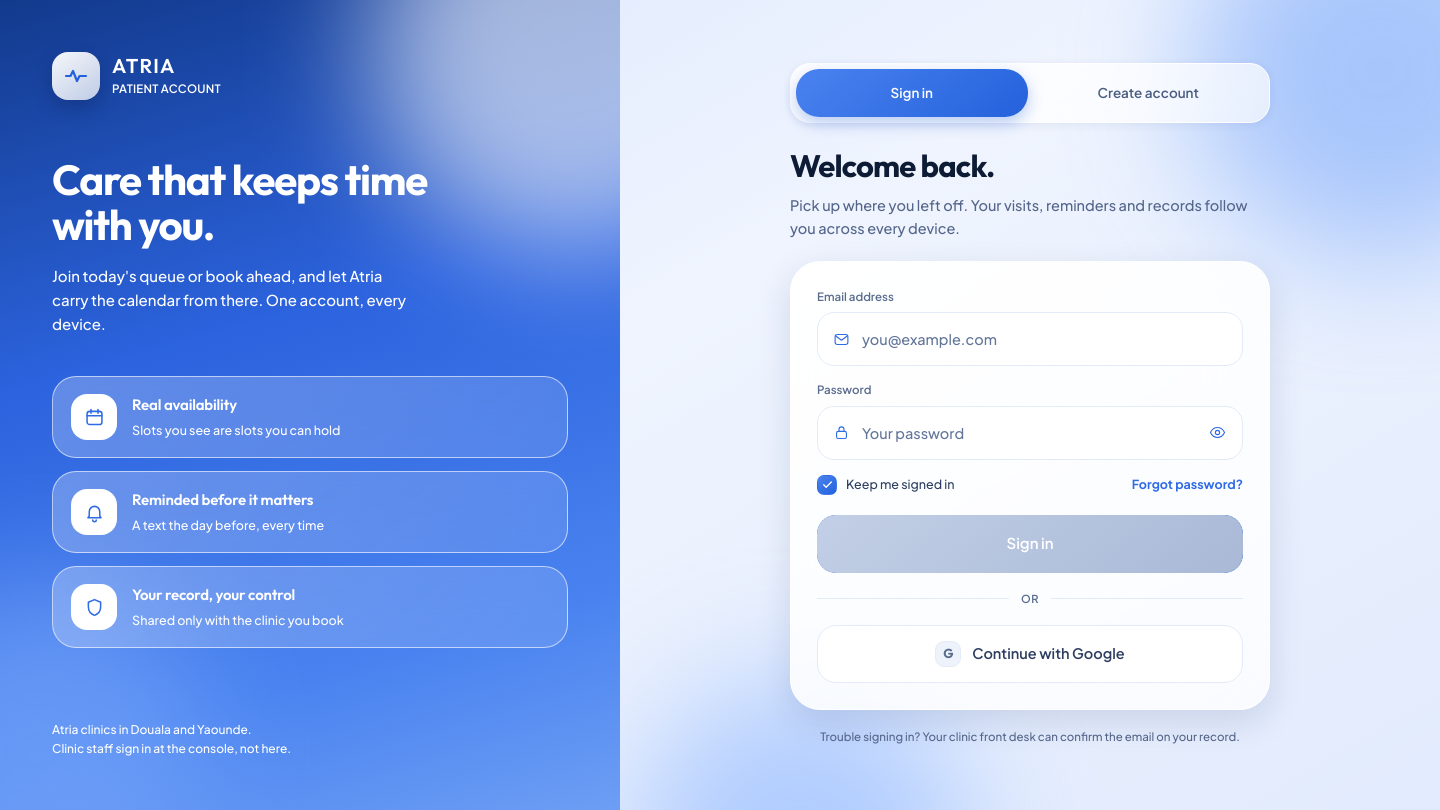
Test: PatientSignIn › does not say whether the email or the password was wrong
This screenshot has width=1440, height=810.
Type "  amina@example.com " into the field labelled "Email address".
click(1044, 339); type("  amina@example.com ")  # box [860,313,1227,365]
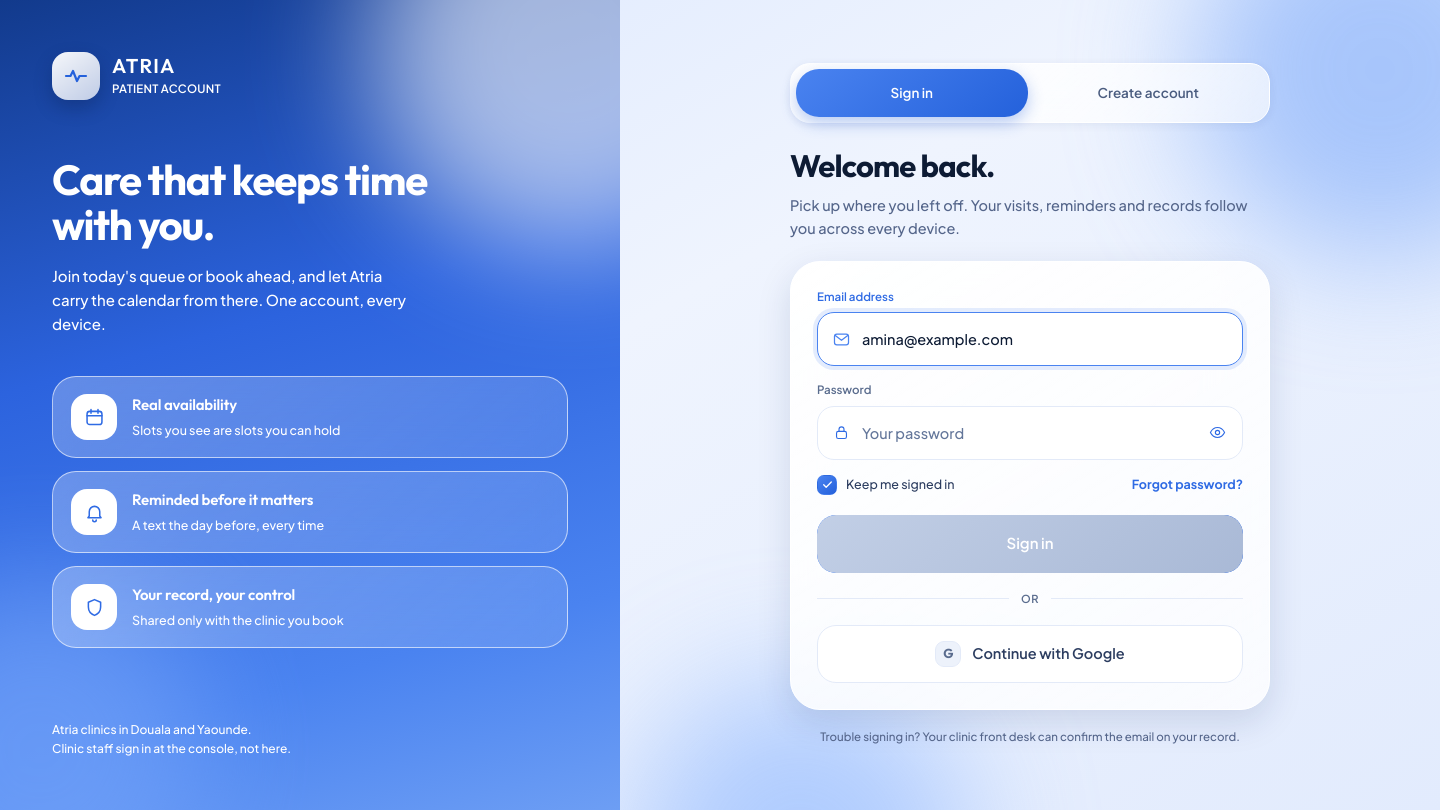
Type "Douala-Clinic-2026" into the password field labelled "Password".
click(1026, 433); type("Douala-Clinic-2026")  # box [860,407,1191,459]
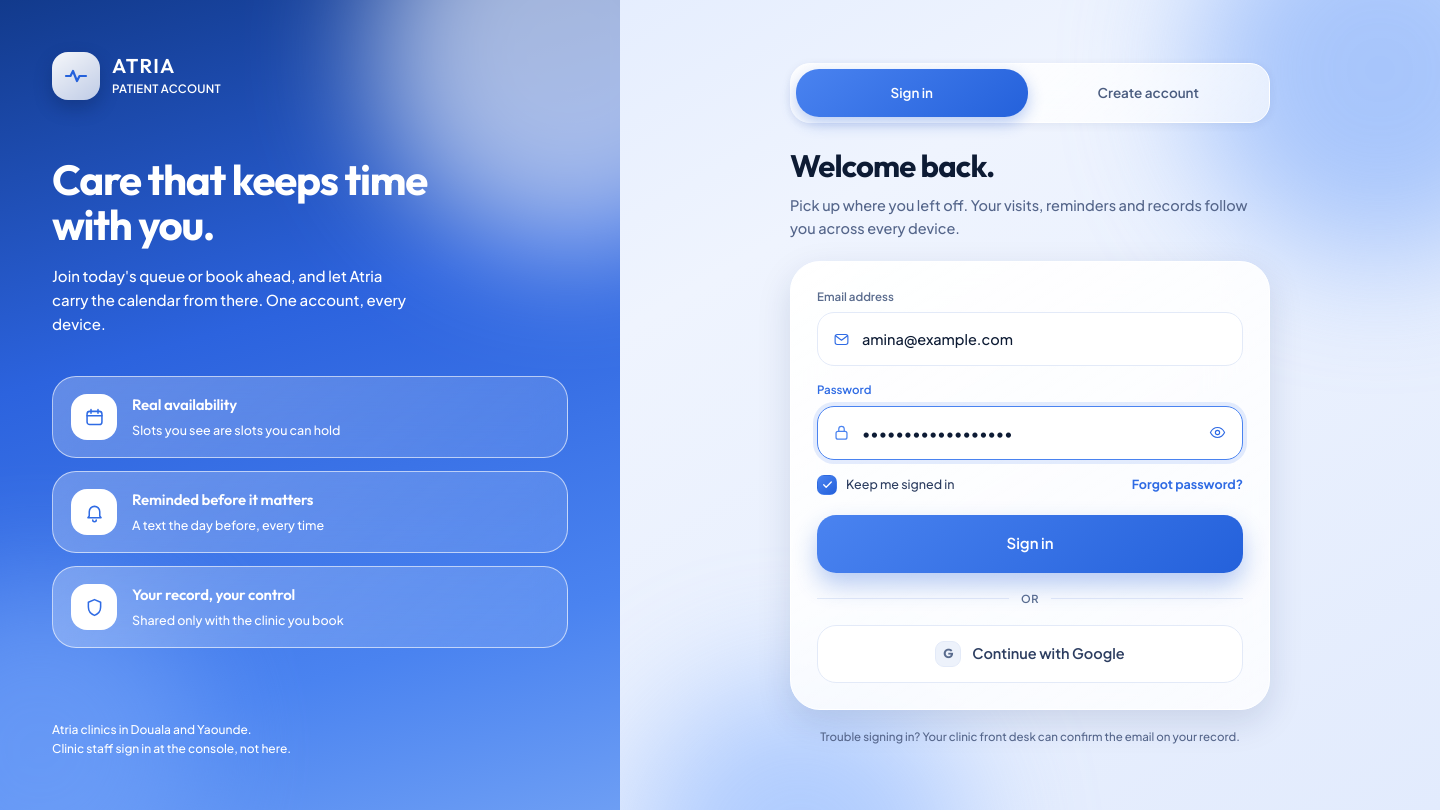
Click the button "Sign in".
click(1030, 544)  # box [817,515,1243,573]
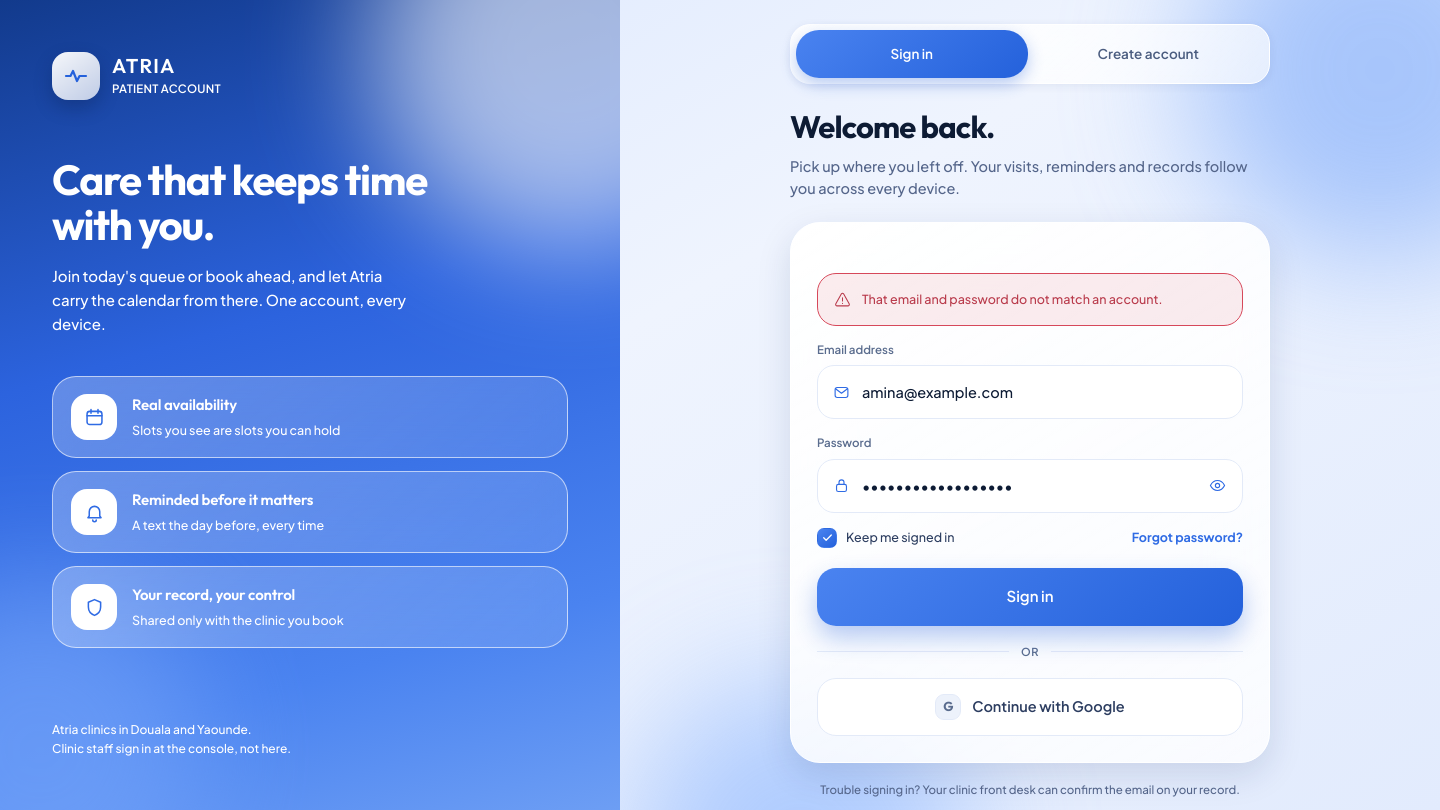
Expected: the message reads "That email and password do not match an account.", [862,291,1162,307]
